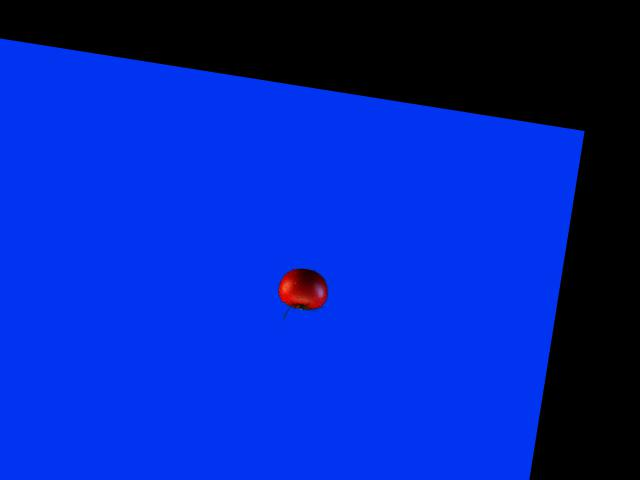tomato: (276, 264, 331, 312)
